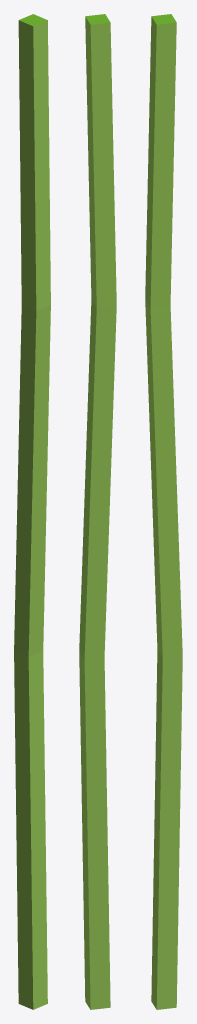
File: Tulip Stem LOD 1.fbx
3 renders of one model, left to right at view 1: azimuth 90°, elevation 25°; view 2: azimuth 150°, elevation 25°; view 3: azimuth 330°, elevation 25°, orthographic.
Parts seen in each view (by area): view 1: Tulip Stem LOD 1; view 2: Tulip Stem LOD 1; view 3: Tulip Stem LOD 1.
Boxes of the visible parts, bbox=[...] form: Tulip Stem LOD 1: bbox=[14, 14, 50, 1009]; Tulip Stem LOD 1: bbox=[79, 14, 116, 1009]; Tulip Stem LOD 1: bbox=[145, 14, 182, 1009].
Bounding box in the file's own units: 0.0556 × 1.55 × 0.0528.
